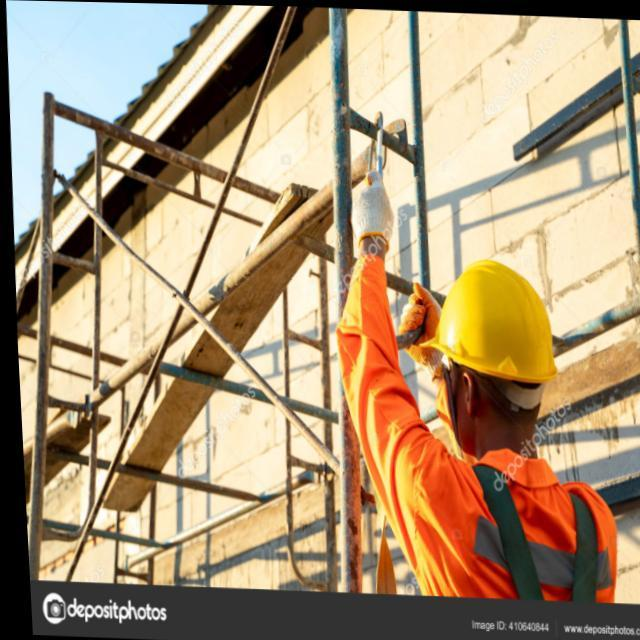belt: (458, 469, 594, 584)
